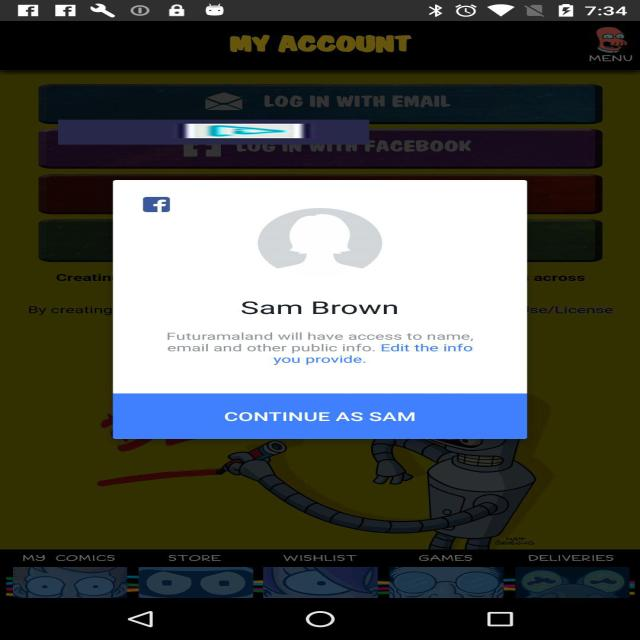sneaking: (58, 120, 369, 144)
